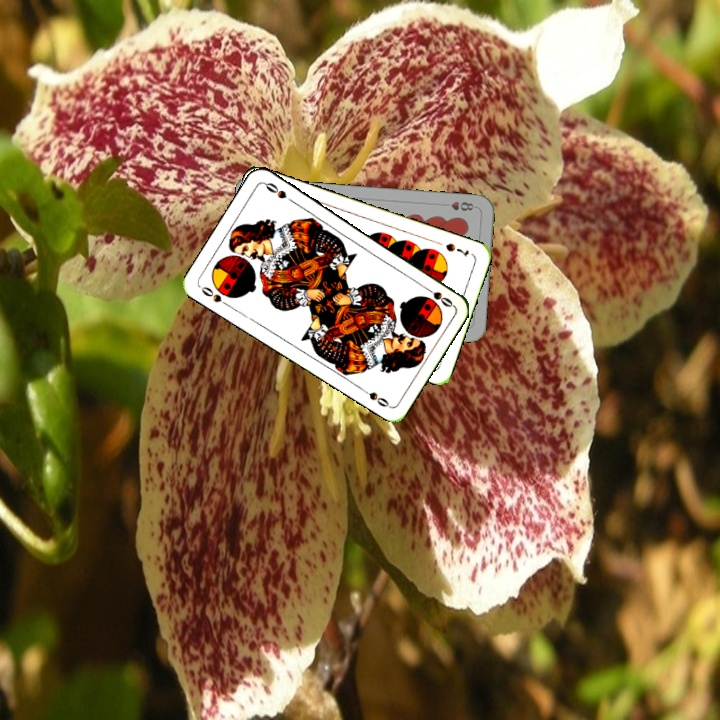H8: (447, 197, 476, 213)
S7: (441, 239, 472, 259)
SO: (419, 282, 455, 310), (196, 282, 232, 309)
